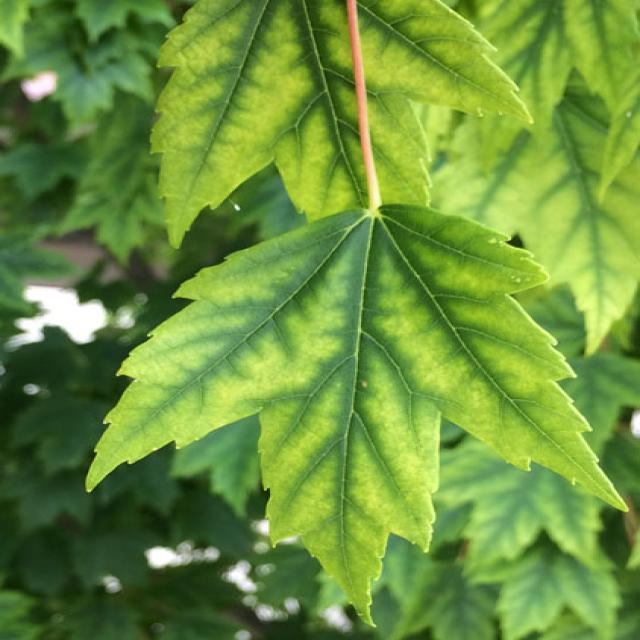Chlorosis: (89, 41, 561, 574)
